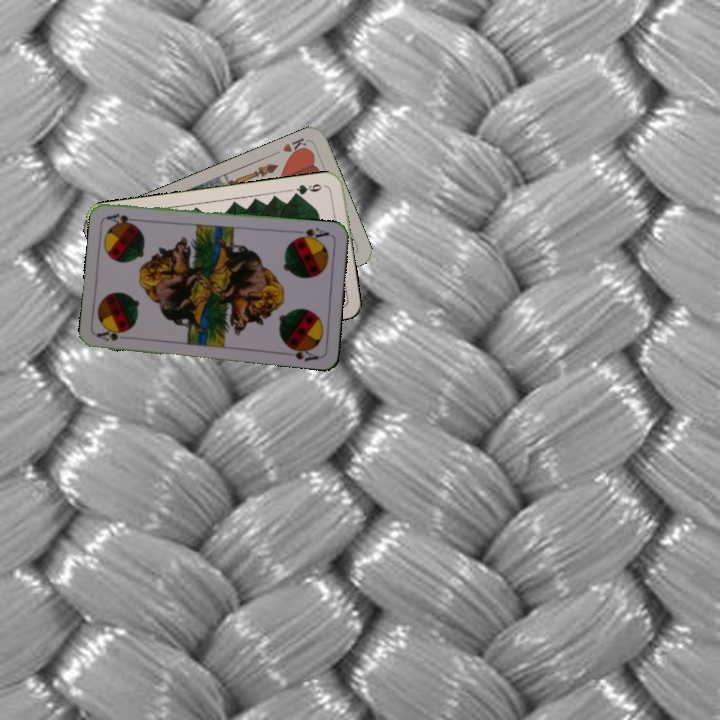G9: (288, 180, 328, 199)
HK: (279, 134, 310, 159)
SA: (292, 224, 332, 243), (93, 325, 130, 344)
